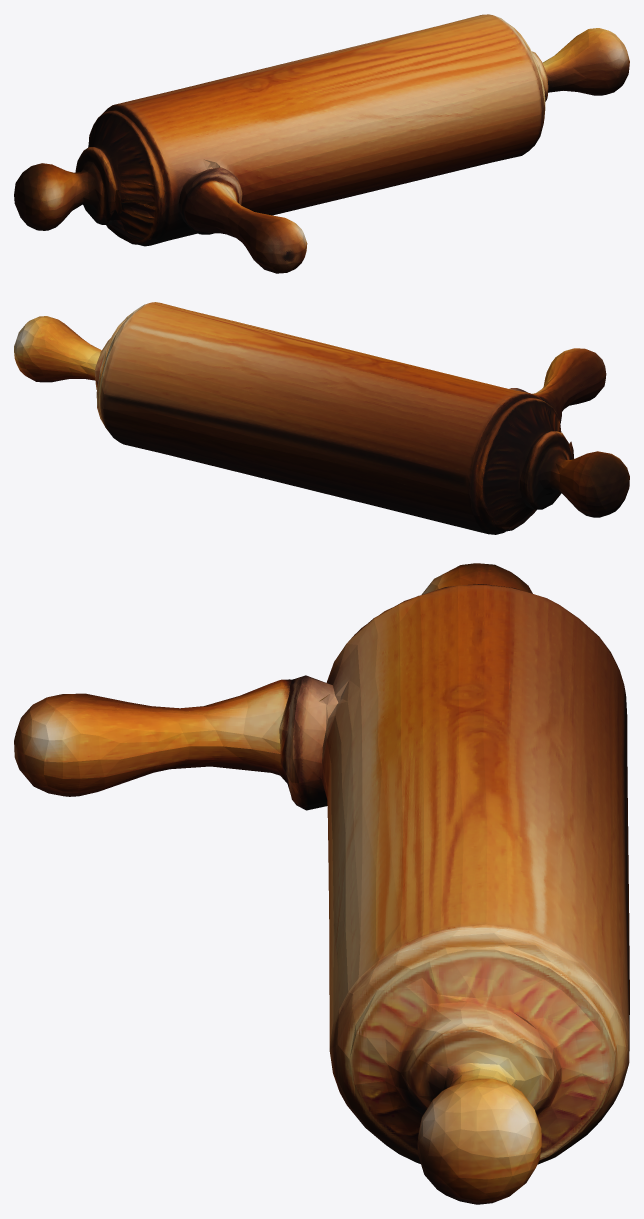
File: wooden-rolling-pin-vintage.jpeg.glb
The picture shows the model from 3 angles, top to bottom: view 1: azimuth 30°, elevation 25°; view 2: azimuth 150°, elevation 25°; view 3: azimuth 270°, elevation 25°; orthographic projection. The views are drawn at different scales.
Parts seen in each view (by area): view 1: world; view 2: world; view 3: world.
Boxes of the visible parts, <box> form: world: <box>14,14,629,273</box>; world: <box>14,302,629,534</box>; world: <box>14,563,629,1204</box>.
Bounding box in the file's own units: 1 × 0.2082 × 0.4652.
1 material, 1 textured.
